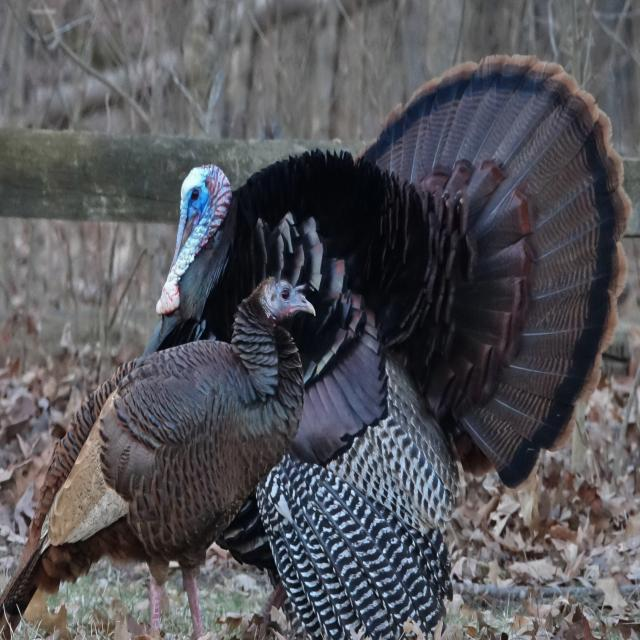turkey: (145, 56, 630, 640), (0, 277, 315, 638)
